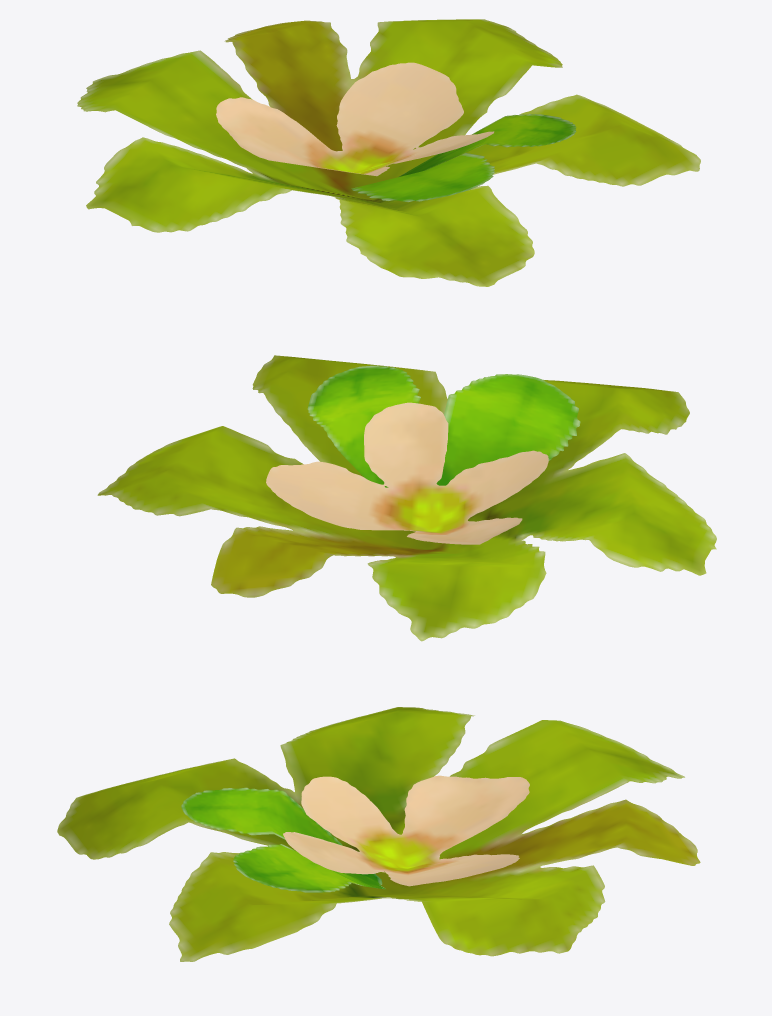
The model's file is bush_01.FBX.
The picture shows the model from 3 angles, top to bottom: view 1: azimuth 30°, elevation 25°; view 2: azimuth 150°, elevation 25°; view 3: azimuth 270°, elevation 25°; orthographic projection. The views are drawn at different scales.
Parts seen in each view (by area): view 1: bush_01; view 2: bush_01; view 3: bush_01.
Part boxes in pixels (<box>): bush_01: <box>77,19,700,286</box>; bush_01: <box>97,355,716,641</box>; bush_01: <box>57,707,700,961</box>.
Bounding box in the file's own units: 464 × 66.97 × 489.
1 material, 1 textured.
